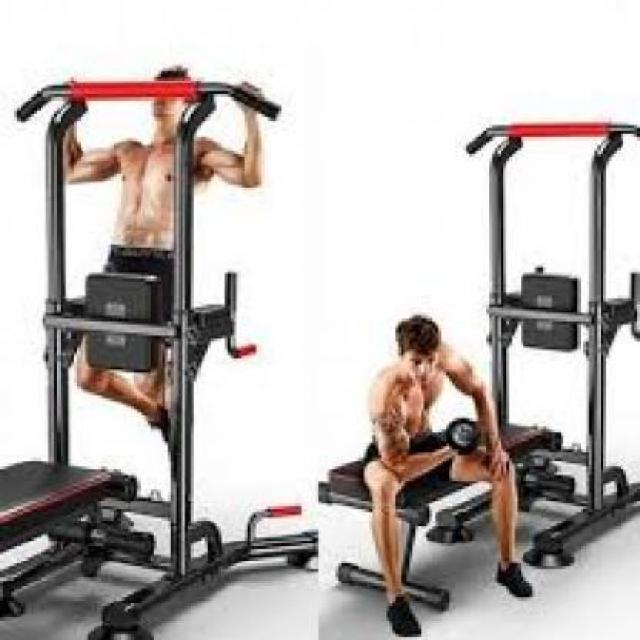chinning dipping: (14, 83, 320, 575)
